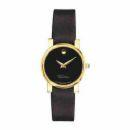watch: (39, 32, 86, 97)
